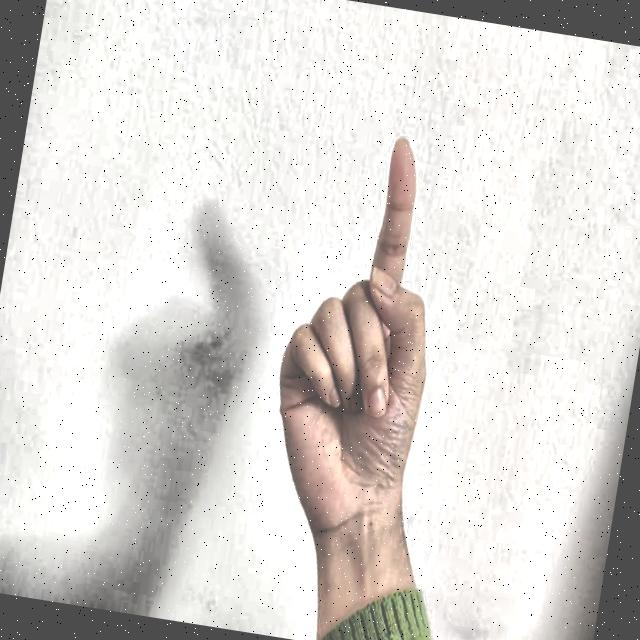U: (235, 82, 488, 554)
